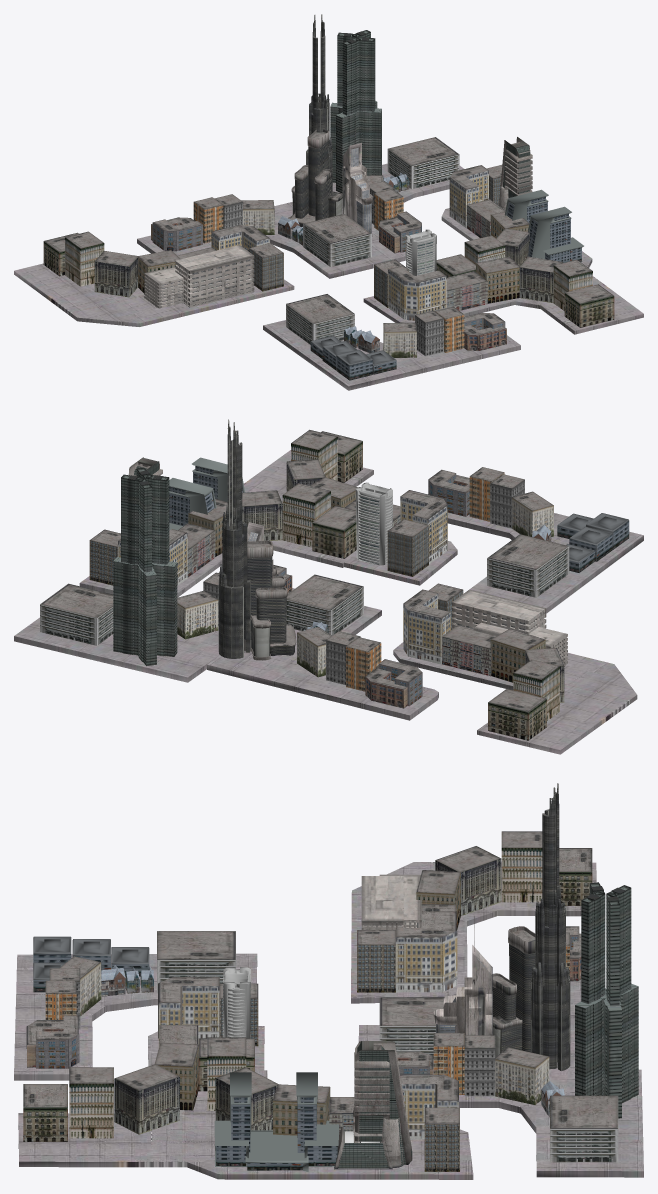
The model's file is City.obj.
The picture shows the model from 3 angles, top to bottom: view 1: azimuth 30°, elevation 25°; view 2: azimuth 150°, elevation 25°; view 3: azimuth 270°, elevation 25°; orthographic projection. The views are drawn at different scales.
Parts seen in each view (by area): view 1: mesh01, bldgs2; view 2: mesh01, bldgs2; view 3: mesh01, bldgs2.
Boxes of the visible parts, x1,y1,x2,y2 form: mesh01: (14, 137, 643, 390); bldgs2: (144, 14, 583, 380); mesh01: (14, 429, 643, 754); bldgs2: (113, 419, 629, 666); mesh01: (14, 831, 643, 1179); bldgs2: (33, 783, 638, 1171).
Bounding box in the file's own units: 1987 × 848 × 1693.
